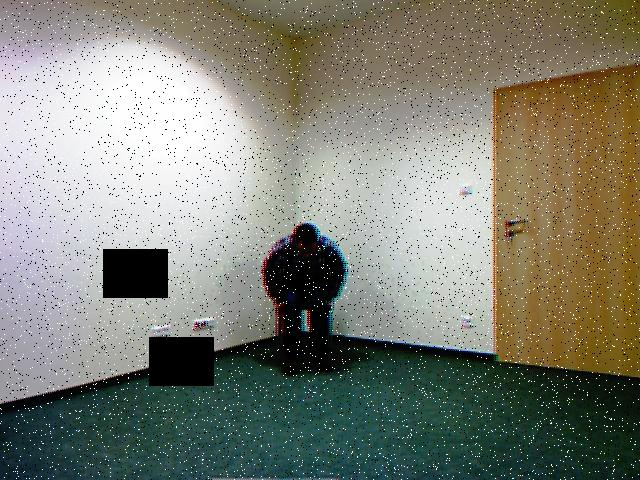bending: (258, 206, 351, 384)
